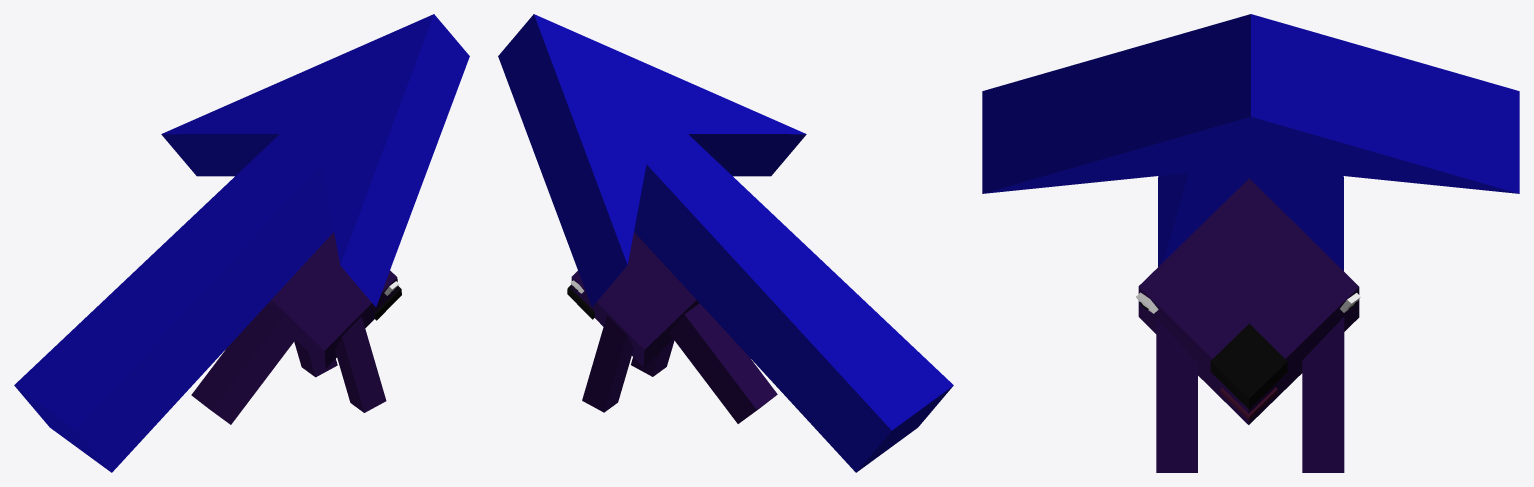
Rendered from newGame(without light).fbx.
The picture shows the model from 3 angles, left to right: view 1: azimuth 30°, elevation 25°; view 2: azimuth 150°, elevation 25°; view 3: azimuth 270°, elevation 25°; orthographic projection. The views are drawn at different scales.
Parts seen in each view (by area): view 1: Cube.001, Cube.002; view 2: Cube.001, Cube.002; view 3: Cube.001, Cube.002.
Boxes of the visible parts, x1,y1,x2,y2 form: Cube.001: [14, 14, 469, 472]; Cube.002: [191, 232, 401, 424]; Cube.001: [498, 14, 953, 472]; Cube.002: [567, 232, 777, 423]; Cube.001: [982, 14, 1519, 270]; Cube.002: [1136, 178, 1360, 472].
Bounding box in the file's own units: 1027 × 811 × 750.
